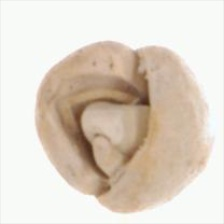L3: (61, 80, 152, 182)
L4: (34, 42, 213, 212)
